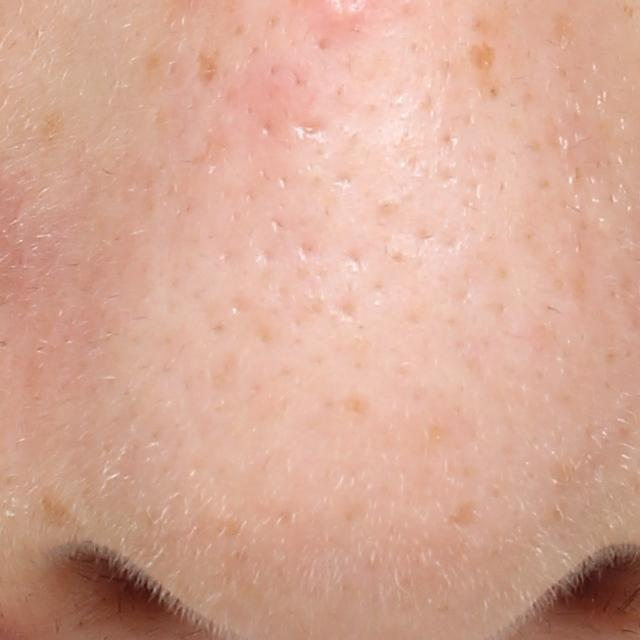atrophic_scar: (293, 120, 328, 141)
melasma: (39, 493, 97, 540), (466, 42, 504, 101), (193, 43, 220, 87), (37, 108, 63, 143), (550, 11, 575, 46)
